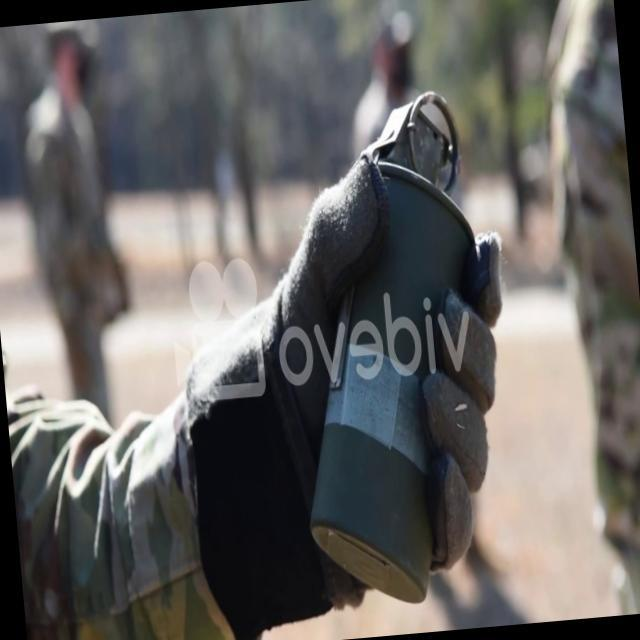grenade: (272, 85, 521, 608)
